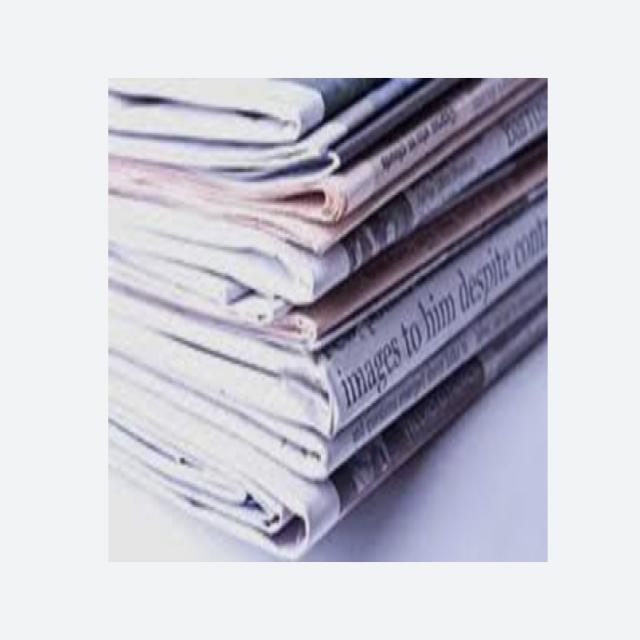biodegradable: (98, 61, 551, 570)
